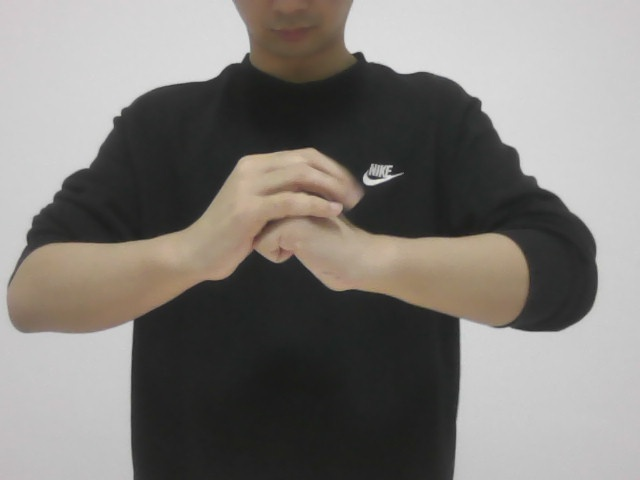wish: (203, 140, 371, 298)
